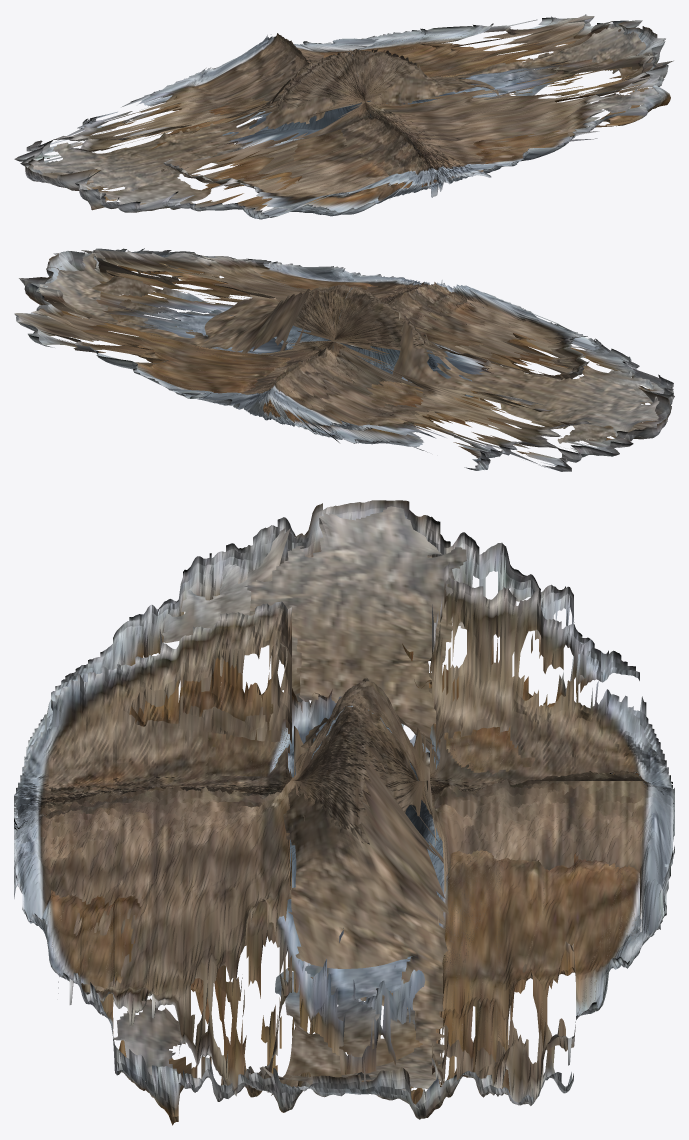
File: detail_mesh.glb
The picture shows the model from 3 angles, top to bottom: view 1: azimuth 30°, elevation 25°; view 2: azimuth 150°, elevation 25°; view 3: azimuth 270°, elevation 25°; orthographic projection. The views are drawn at different scales.
Visible parts, largest first — view 1: ipn, fill; view 2: ipn, fill; view 3: ipn, fill.
Part boxes in pixels (bbox=[...]): ipn: bbox=[14, 14, 673, 219]; fill: bbox=[33, 27, 657, 207]; ipn: bbox=[14, 248, 674, 471]; fill: bbox=[39, 252, 663, 443]; ipn: bbox=[14, 500, 674, 1125]; fill: bbox=[114, 506, 466, 1095].
Size of the model in its own units: 1.99 by 0.3887 by 0.9423.
2 materials, 1 textured.
